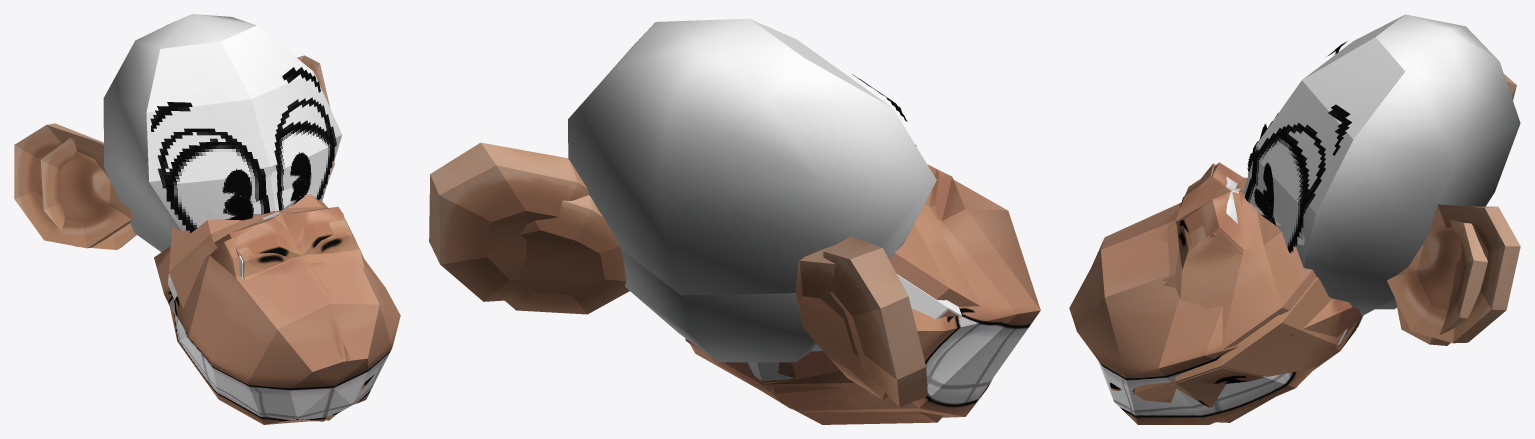
The model's file is monkey_heads.fbx.
The picture shows the model from 3 angles, left to right: view 1: azimuth 30°, elevation 25°; view 2: azimuth 150°, elevation 25°; view 3: azimuth 270°, elevation 25°; orthographic projection. The views are drawn at different scales.
Parts seen in each view (by area): view 1: muzzle_long_smile, head_front_long, eyes_long, head_long, earR_long, muzzle_long_angry, earR_short, muzzle_long_sad, joint_pupilR_long, joint_pupilL_long, eyes_short, joint_pupilR_short (+2 smaller); view 2: head_long, muzzle_long_smile, earL_long, head_short, earR_long, earL_short, earR_short, muzzle_long_angry, muzzle_long_laugh, muzzle_long_surprise, muzzle_long, head_front_long; view 3: head_long, muzzle_long_smile, muzzle_long_angry, muzzle_long_sad, earL_long, head_front_long, eyes_long, earL_short, muzzle_long_laugh, muzzle_long_surprise, joint_pupilL_long.
Part boxes in pixels (x1,y1,x2,y2): muzzle_long_smile: (154, 212, 400, 424); head_front_long: (146, 25, 341, 231); eyes_long: (150, 67, 336, 233); head_long: (103, 14, 256, 252); earR_long: (14, 123, 132, 248); muzzle_long_angry: (169, 194, 365, 308); earR_short: (40, 138, 136, 249); muzzle_long_sad: (238, 209, 374, 386); joint_pupilR_long: (222, 169, 251, 216); joint_pupilL_long: (290, 152, 311, 197); eyes_short: (252, 183, 310, 216); joint_pupilR_short: (223, 195, 253, 220); head_long: (568, 18, 936, 351); muzzle_long_smile: (690, 164, 1040, 417); earL_long: (429, 142, 588, 301); head_short: (622, 250, 815, 362); earR_long: (823, 236, 927, 407); earL_short: (505, 195, 629, 314); earR_short: (795, 245, 888, 399); muzzle_long_angry: (889, 165, 979, 306); muzzle_long_laugh: (708, 310, 958, 424); muzzle_long_surprise: (685, 338, 866, 408); muzzle_long: (747, 274, 961, 380); head_front_long: (750, 19, 890, 106); head_long: (1304, 14, 1520, 315); muzzle_long_smile: (1069, 163, 1361, 424); muzzle_long_angry: (1161, 162, 1316, 349); muzzle_long_sad: (1110, 178, 1344, 420); earL_long: (1387, 204, 1520, 343); head_front_long: (1255, 15, 1405, 267); eyes_long: (1251, 41, 1351, 253); earL_short: (1395, 219, 1487, 345); muzzle_long_laugh: (1109, 325, 1358, 422); muzzle_long_surprise: (1070, 228, 1361, 370); joint_pupilL_long: (1263, 162, 1273, 221).
Bounding box in the file's own units: 6.99 × 6.63 × 7.08.
10 materials, 10 textured.
